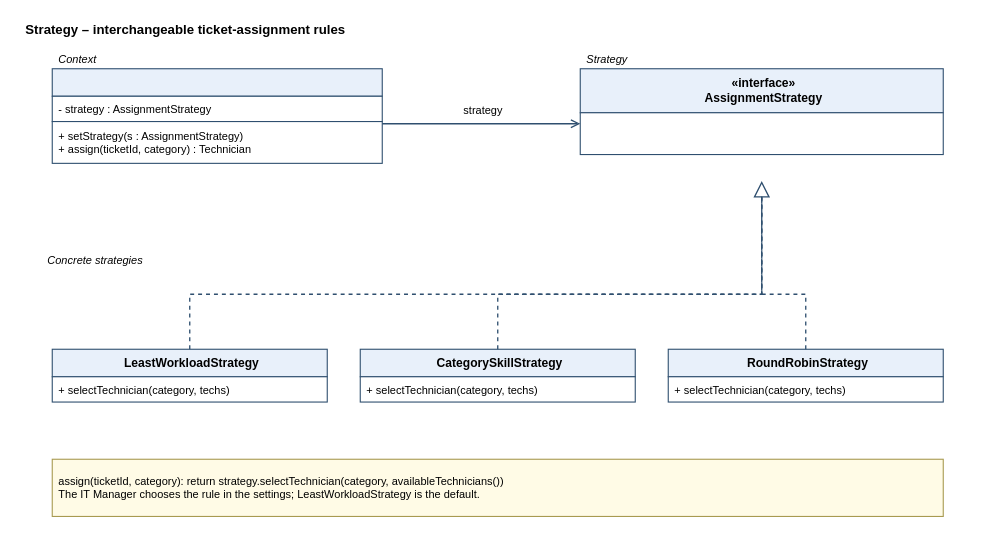
This 1005x536 diagram has some shape labels left out. Each missing label, with the centre of its shape:
+ selectTechnician(category, techs : List<Technician>) : Technician: (x=761, y=133)
AssignmentService: (x=216, y=82)
